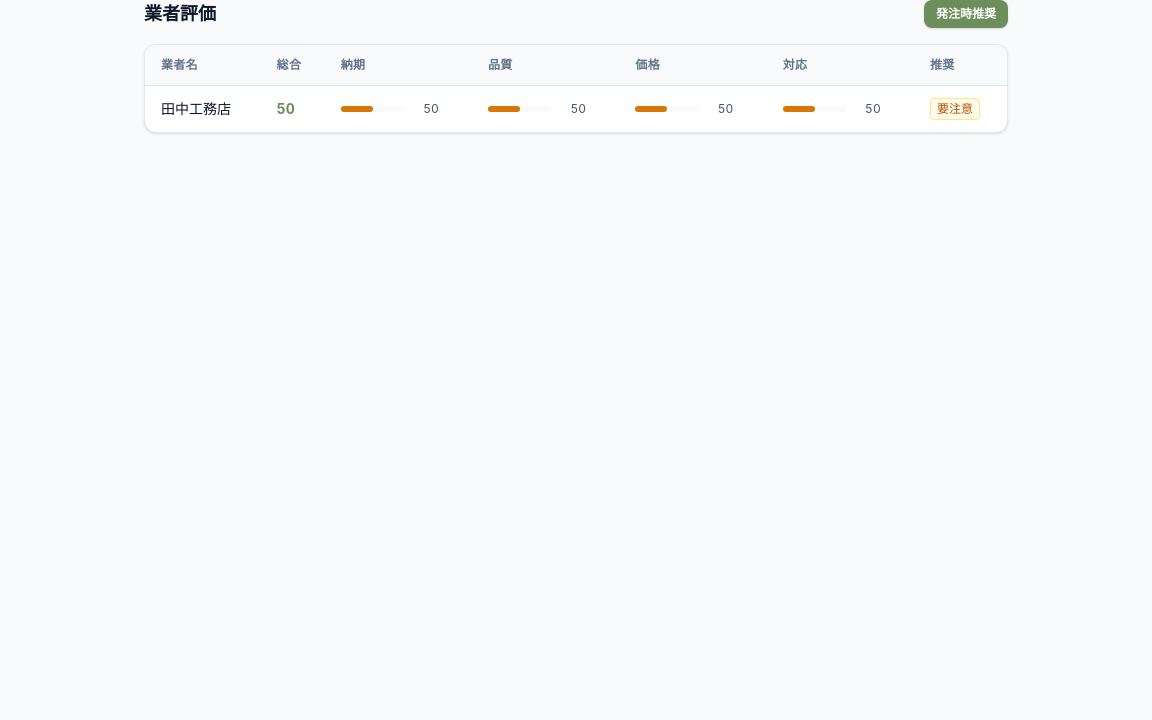
VendorRatingPage › clicking vendor row opens detail panel
This screenshot has width=1152, height=720.
Click the text "田中工務店" at (203, 109), box [145,86,261,132]
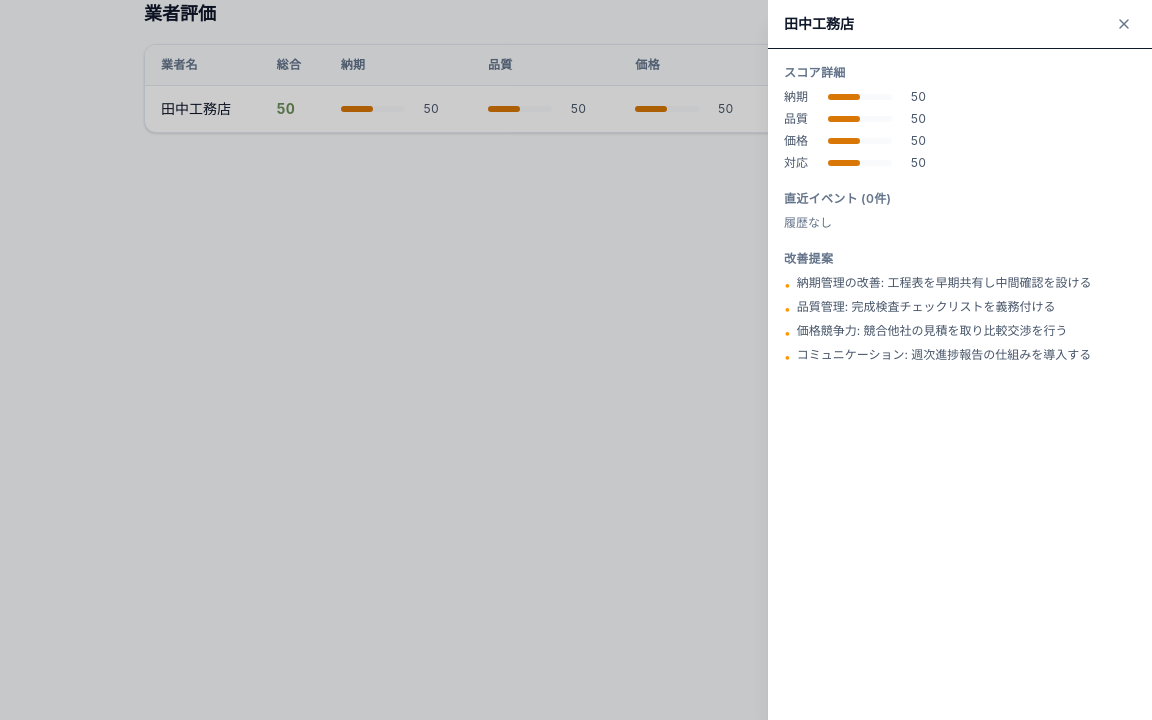
Expected: the dialog is shown, [768,0,1151,719]
